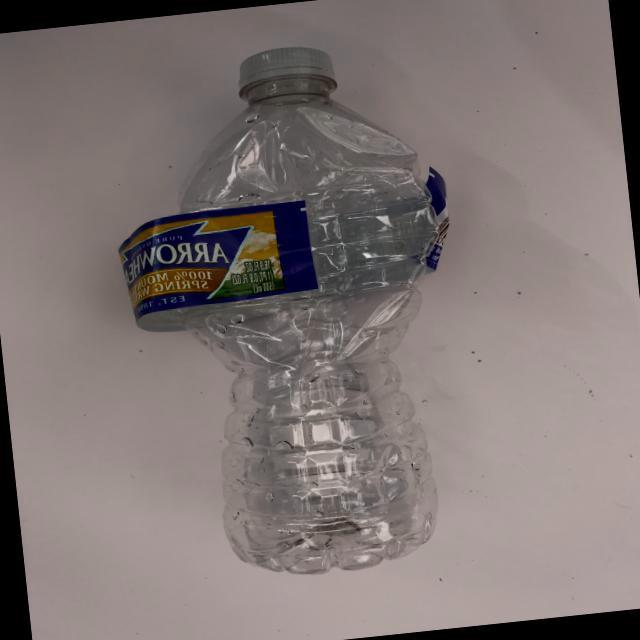plastic: (80, 2, 571, 640)
